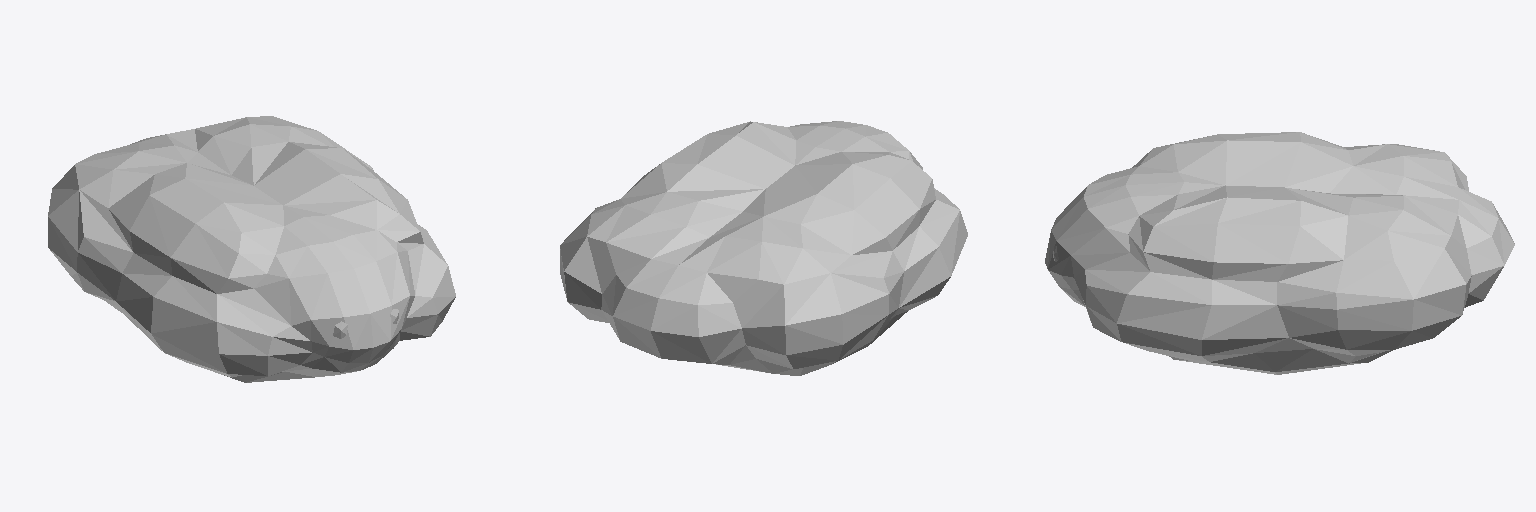
Rendered from nube.obj.
3 renders of one model, left to right at view 1: azimuth 30°, elevation 25°; view 2: azimuth 150°, elevation 25°; view 3: azimuth 270°, elevation 25°, orthographic.
Visible parts, largest first — view 1: Lakitu_Cloud:Mesh; view 2: Lakitu_Cloud:Mesh; view 3: Lakitu_Cloud:Mesh.
Part boxes in pixels (bbox=[...]): Lakitu_Cloud:Mesh: bbox=[48, 116, 455, 382]; Lakitu_Cloud:Mesh: bbox=[560, 121, 967, 375]; Lakitu_Cloud:Mesh: bbox=[1045, 132, 1514, 374].
Bounding box in the file's own units: 0.739 × 0.4099 × 1.